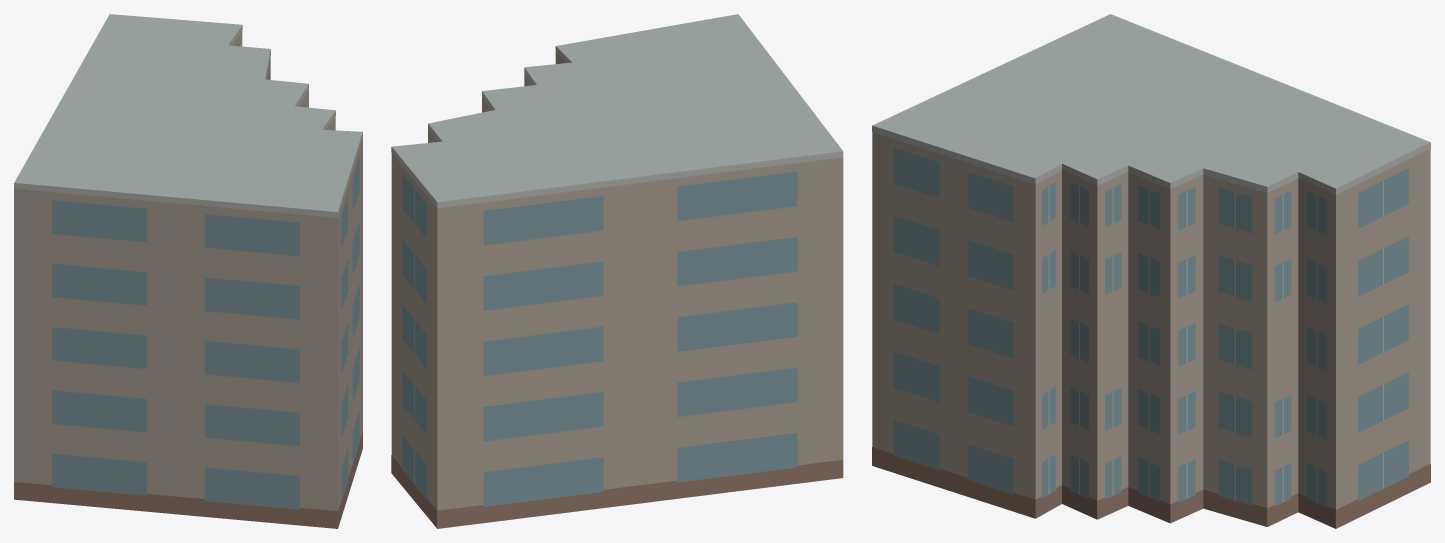
Rendered from survey-upis-32773440.glb.
3 views of the same model, side by side, from view 1: azimuth 30°, elevation 25°; view 2: azimuth 150°, elevation 25°; view 3: azimuth 270°, elevation 25° (orthographic). The views are drawn at different scales.
Visible parts, largest first — view 1: survey-upis-32773440.tmp; view 2: survey-upis-32773440.tmp; view 3: survey-upis-32773440.tmp.
Boxes of the visible parts, left/top/right/bottom form: survey-upis-32773440.tmp: left=14, top=14, right=362, bottom=528; survey-upis-32773440.tmp: left=391, top=14, right=843, bottom=528; survey-upis-32773440.tmp: left=872, top=14, right=1430, bottom=528.
Bounding box in the file's own units: 14.54 × 13.2 × 19.65.
